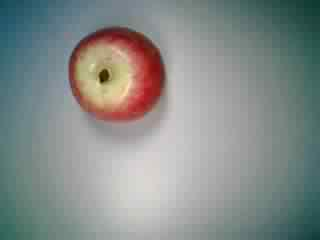apple: (62, 22, 166, 126)
